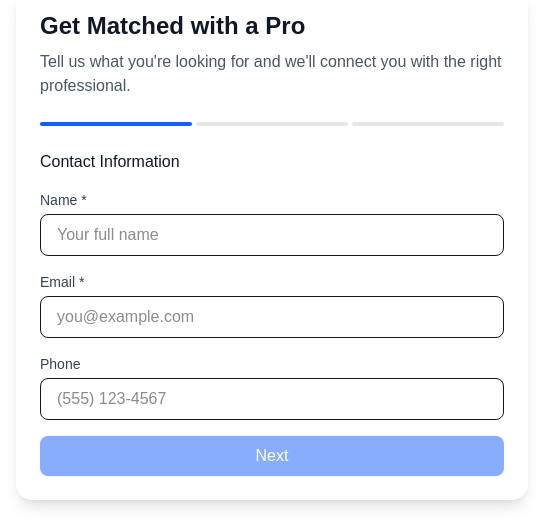
Test: GetMatchedForm › Step Navigation › navigates to step 2 when Next is clicked
In the field with placeholder "Your full name": (272, 235) x1=40 y1=214 x2=504 y2=256, type "John Doe"
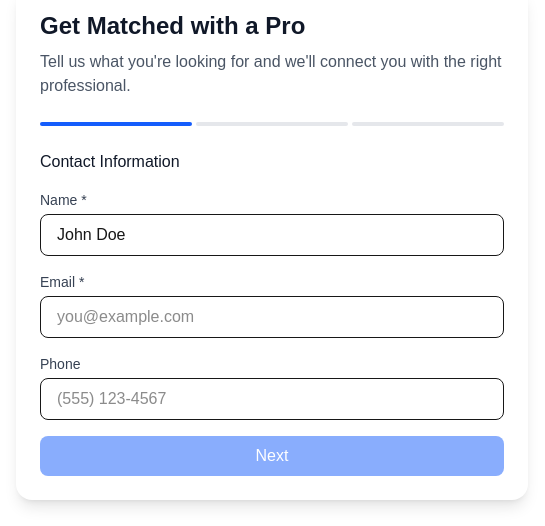
In the field with placeholder "you@example.com": (272, 317) x1=40 y1=296 x2=504 y2=338, type "john@example.com"
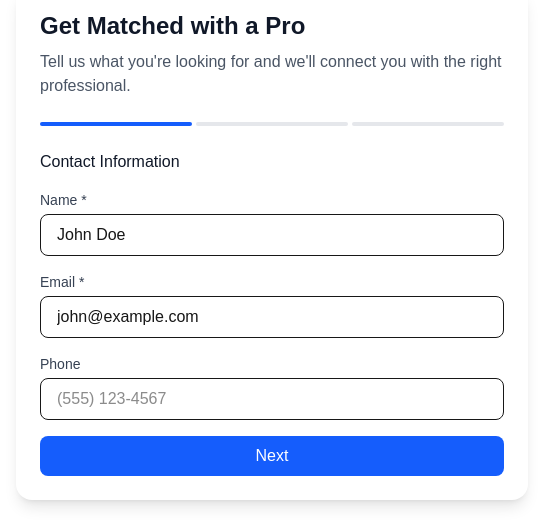
Click the button "Next": (272, 456) x1=40 y1=436 x2=504 y2=476
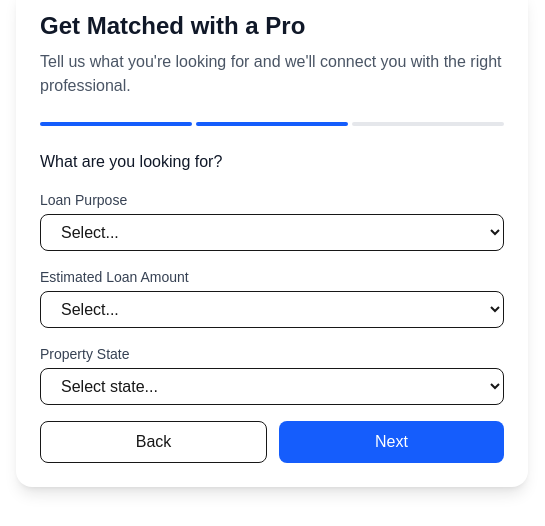
Expected: the heading "What are you looking for?" is shown, x1=40 y1=153 x2=222 y2=170
